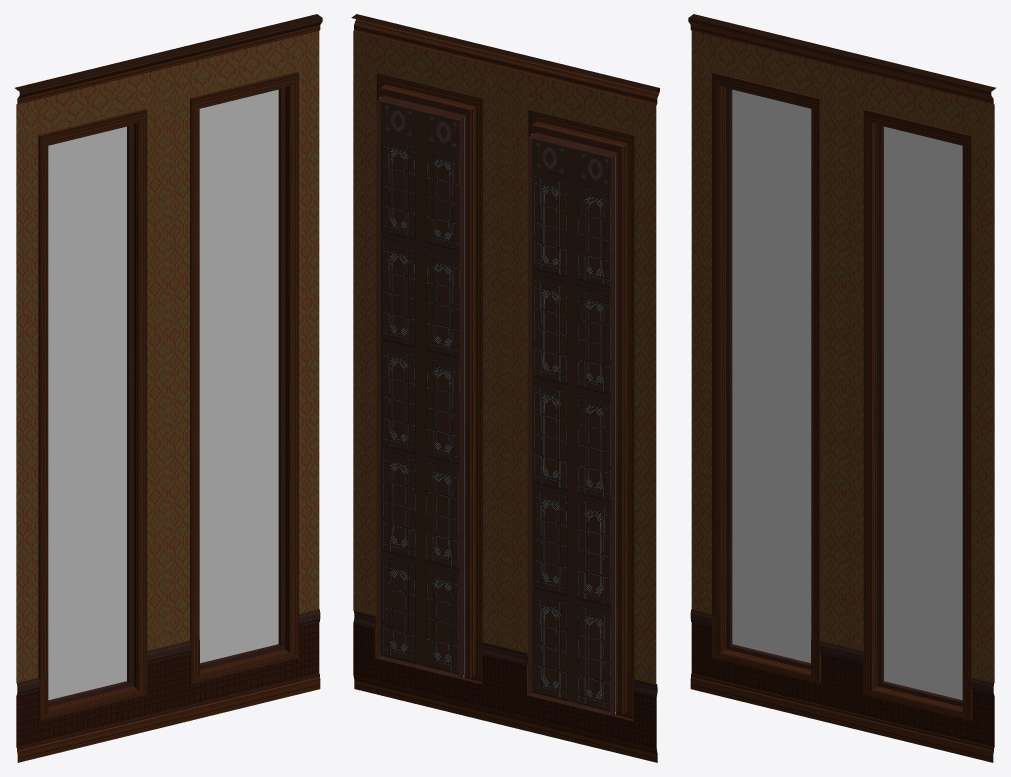
The model's file is Tallwindows2.fbx.
3 views of the same model, side by side, from view 1: azimuth 30°, elevation 25°; view 2: azimuth 150°, elevation 25°; view 3: azimuth 330°, elevation 25° (orthographic).
Parts seen in each view (by area): view 1: WallSectionDiningRoom_Med.004; view 2: WallSectionDiningRoom_Med.004; view 3: WallSectionDiningRoom_Med.004.
Boxes of the visible parts, <box> form: WallSectionDiningRoom_Med.004: <box>15,14,322,762</box>; WallSectionDiningRoom_Med.004: <box>351,14,659,762</box>; WallSectionDiningRoom_Med.004: <box>688,14,995,762</box>.
Size of the model in its own units: 513 by 1088 by 41.47.
